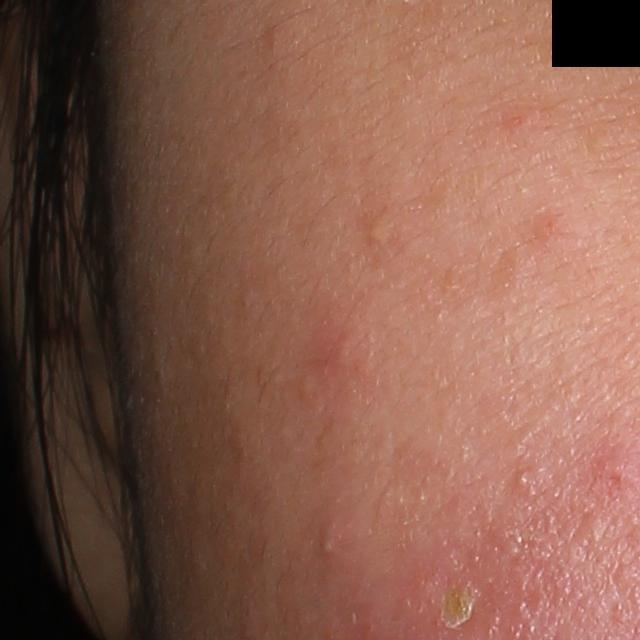comedo: (360, 210, 396, 249)
